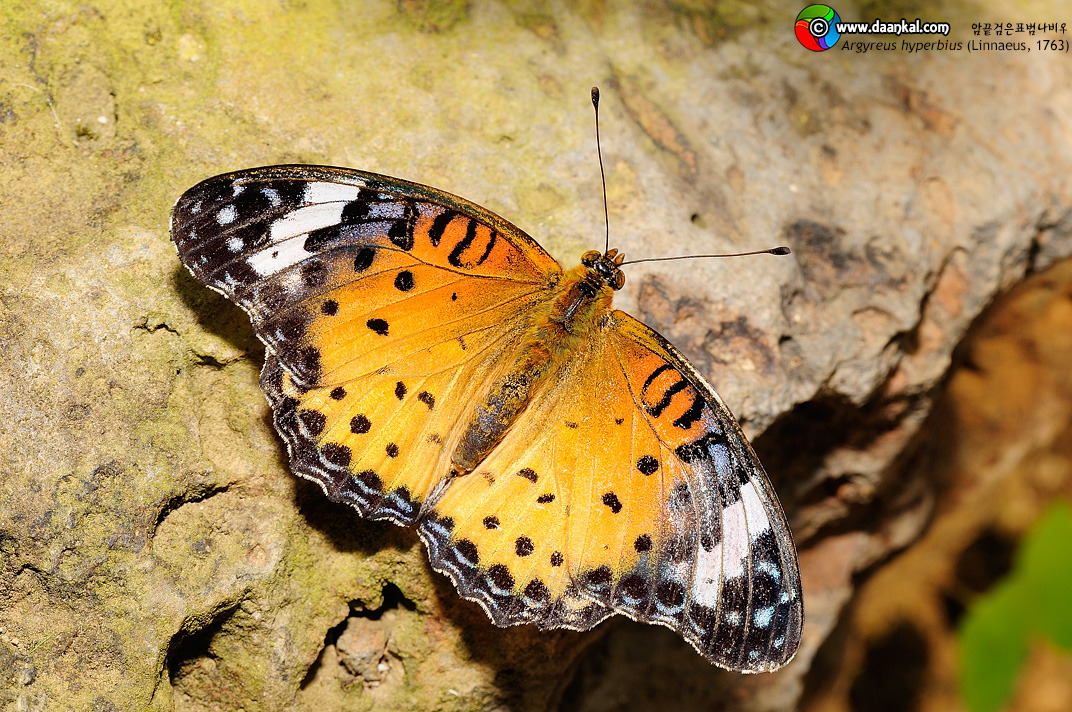Argyreus hyperbius: (166, 80, 820, 683)
butterfly: (168, 82, 822, 685)
